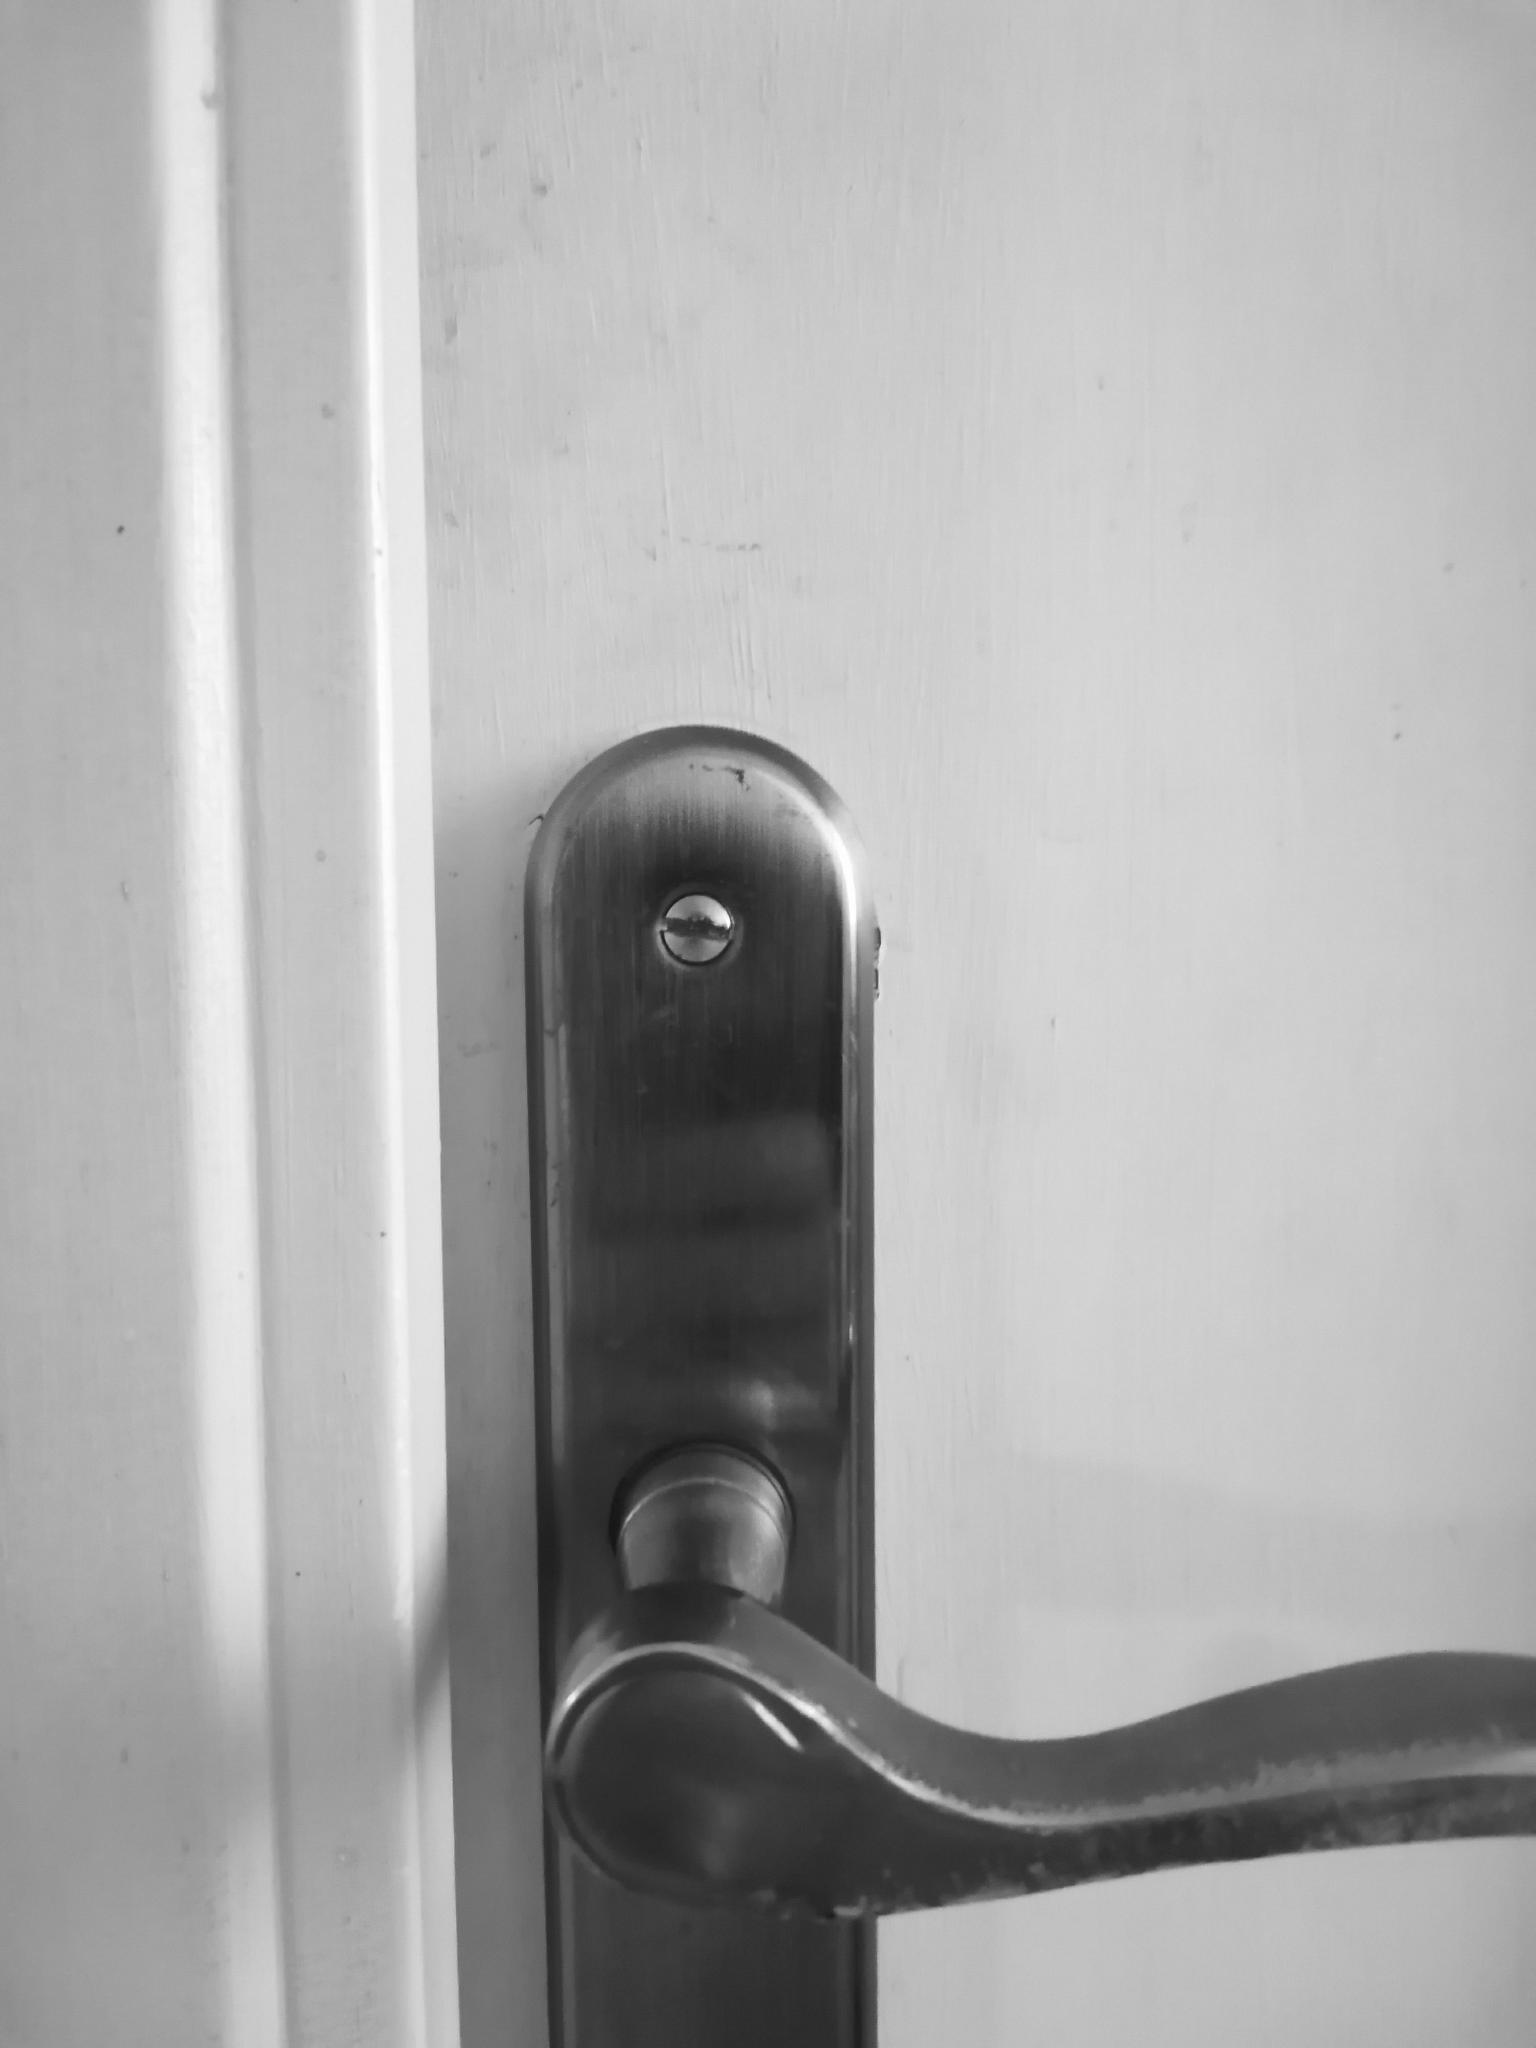slotted: (650, 890, 744, 971)
